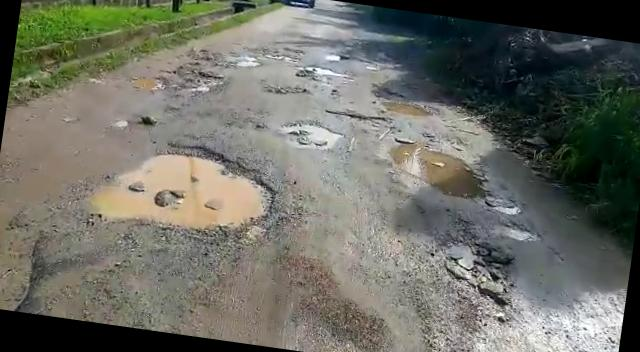pothole: (77, 127, 290, 251), (384, 138, 496, 204), (278, 116, 344, 152), (324, 106, 397, 128), (378, 98, 437, 122), (298, 62, 354, 81), (262, 82, 315, 100), (498, 221, 540, 242), (128, 72, 166, 92)
